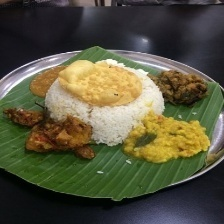rice: (46, 60, 164, 145)
